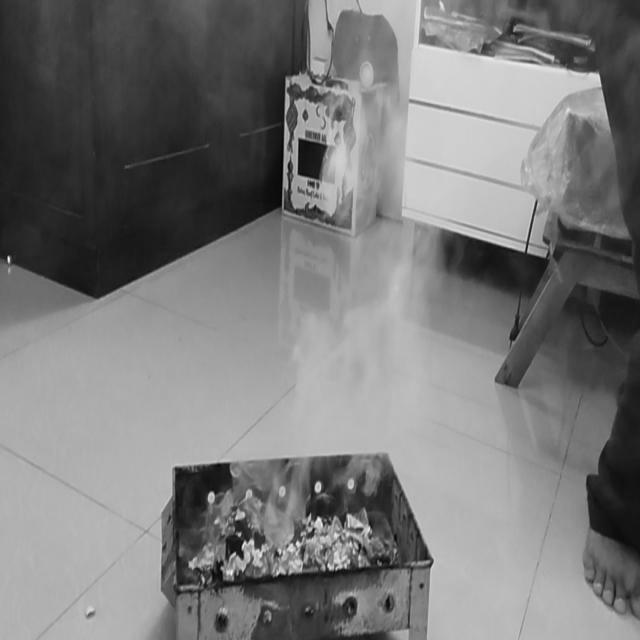fire: (228, 311, 348, 542), (348, 112, 450, 381)
